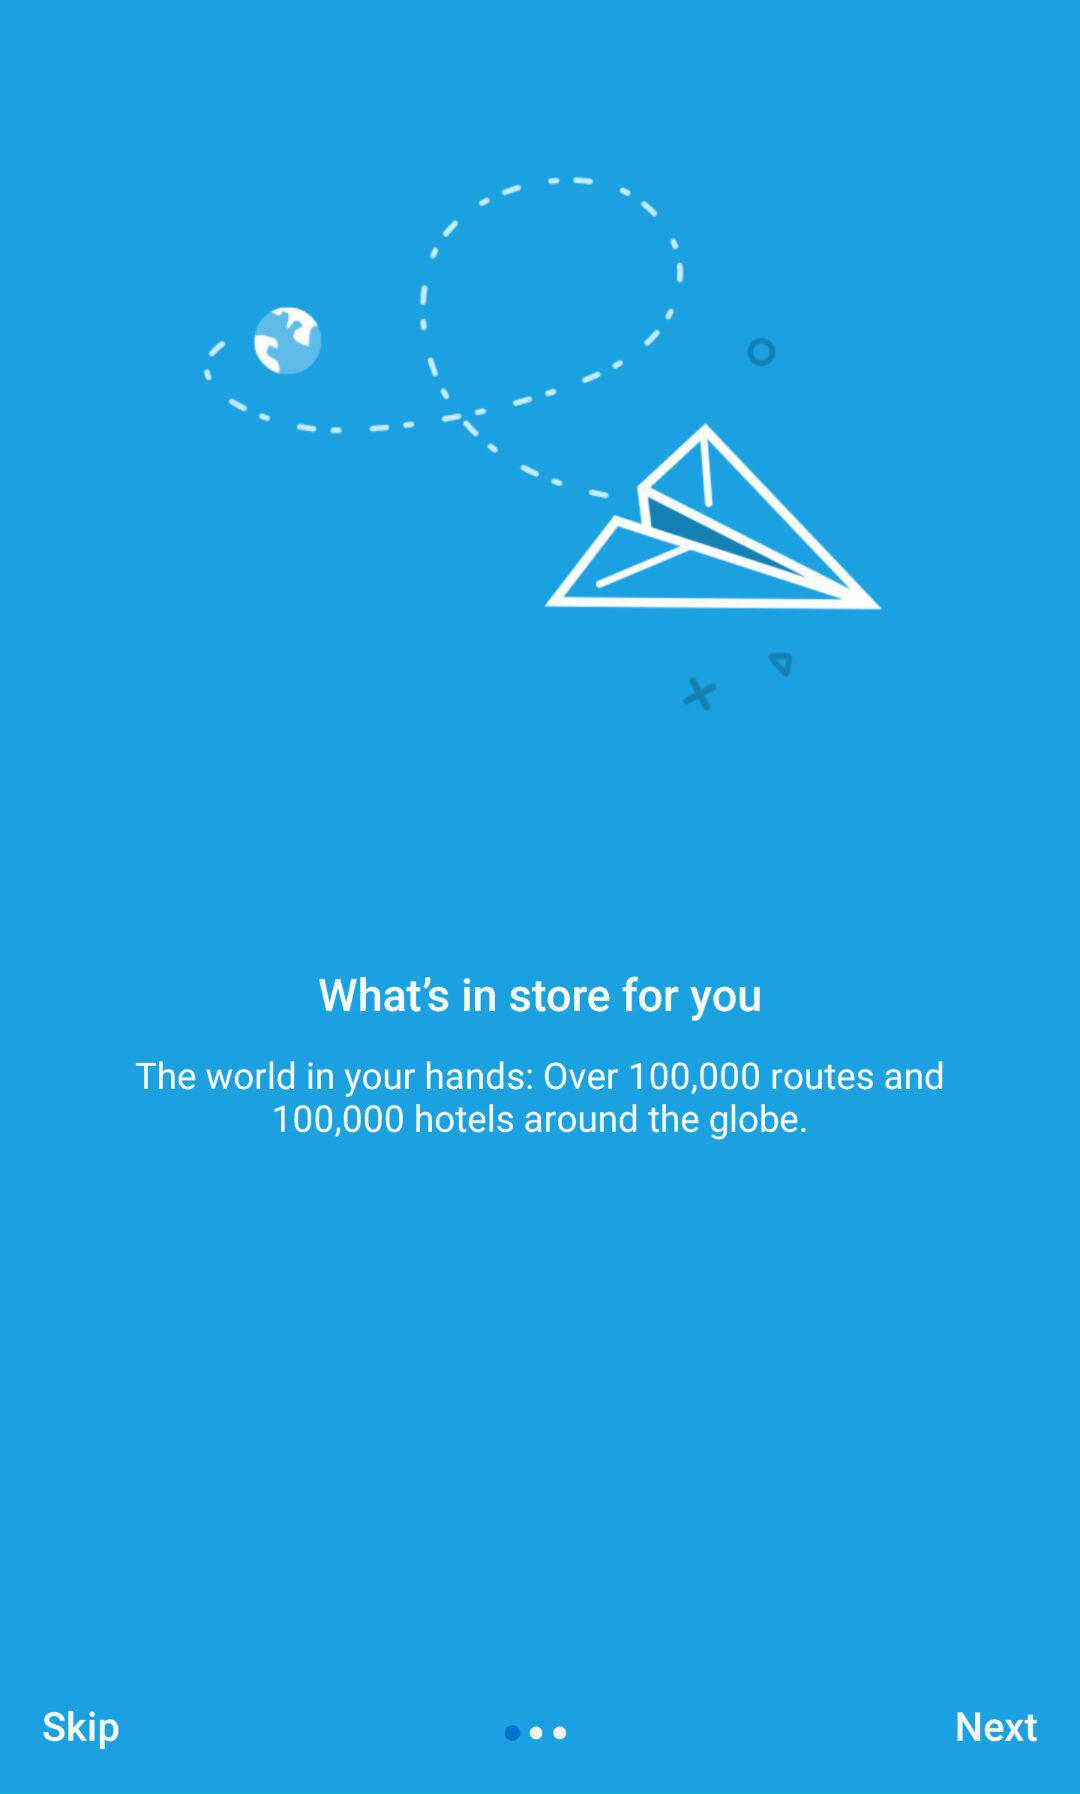Image: (199, 172, 883, 710)
PageIndicator: (503, 1724, 570, 1743)
Text: (135, 1058, 944, 1143), (318, 975, 762, 1024), (44, 1709, 120, 1750), (954, 1709, 1040, 1745)
